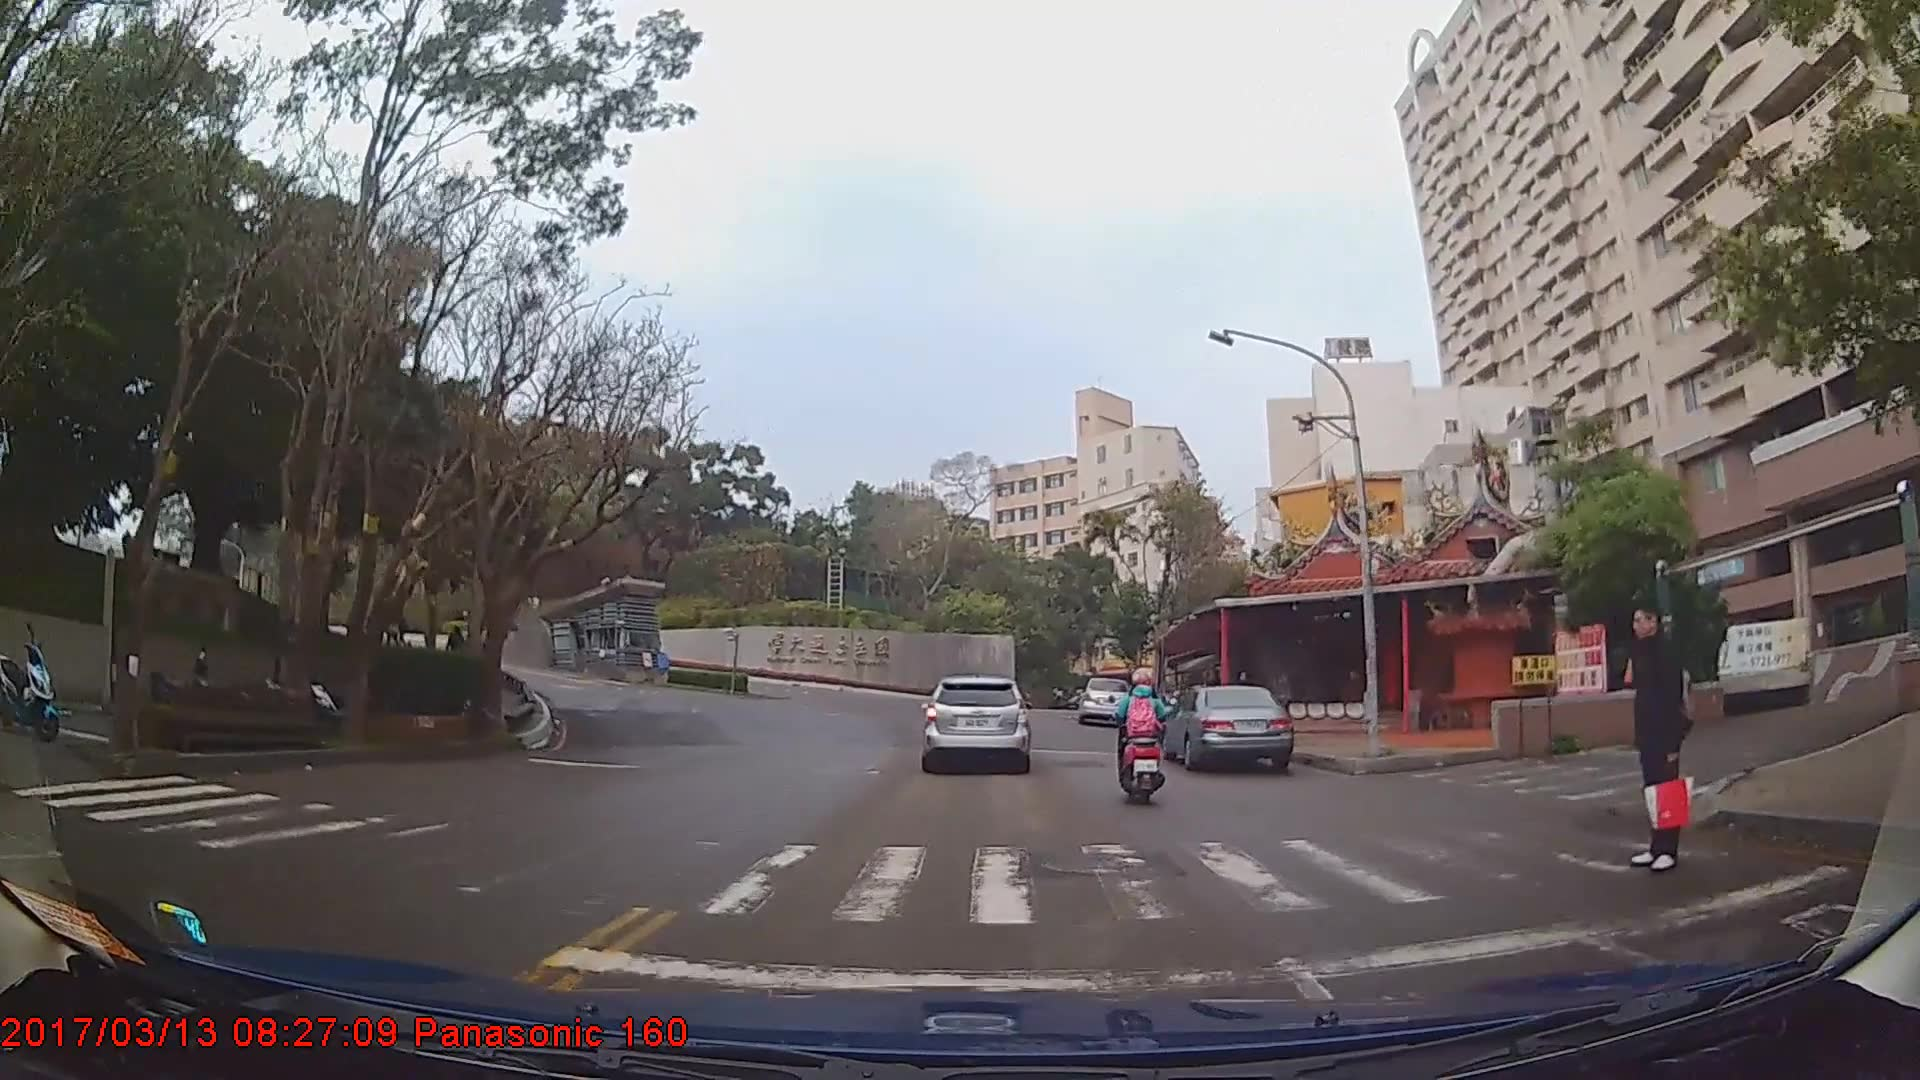pedestrian: (1615, 599, 1697, 874)
rider: (1113, 664, 1175, 811)
vehicle: (1160, 684, 1292, 770), (921, 670, 1029, 771), (1075, 675, 1126, 723)
